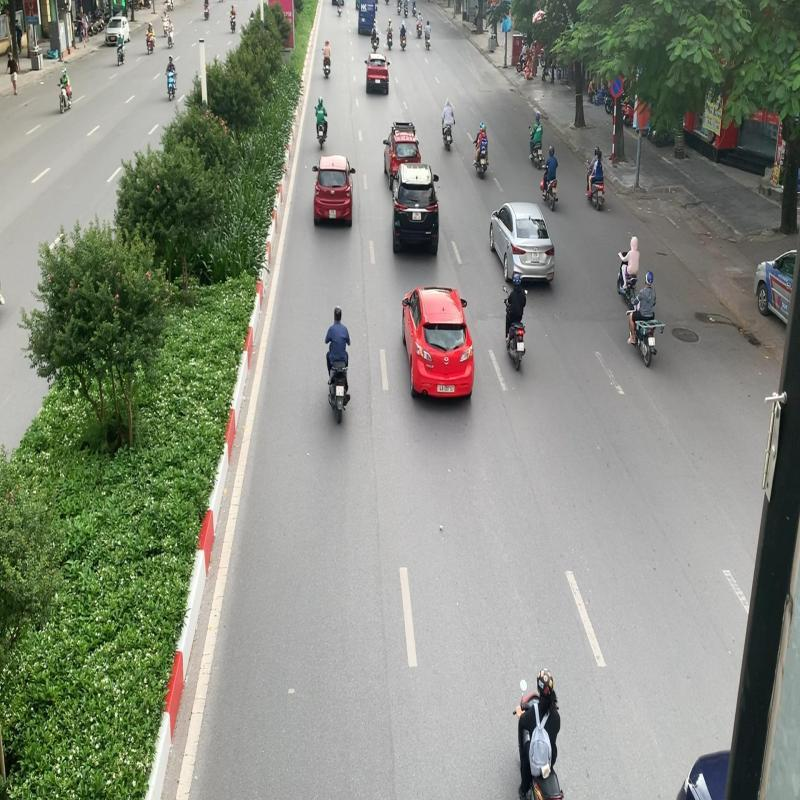helmet: (536, 666, 555, 701), (334, 306, 342, 323), (645, 272, 654, 285), (512, 274, 521, 285)
licenseplate: (336, 384, 344, 396), (516, 341, 524, 352), (648, 337, 655, 345)
motorcyclist: (626, 270, 667, 370), (324, 305, 356, 425), (502, 274, 533, 374)
